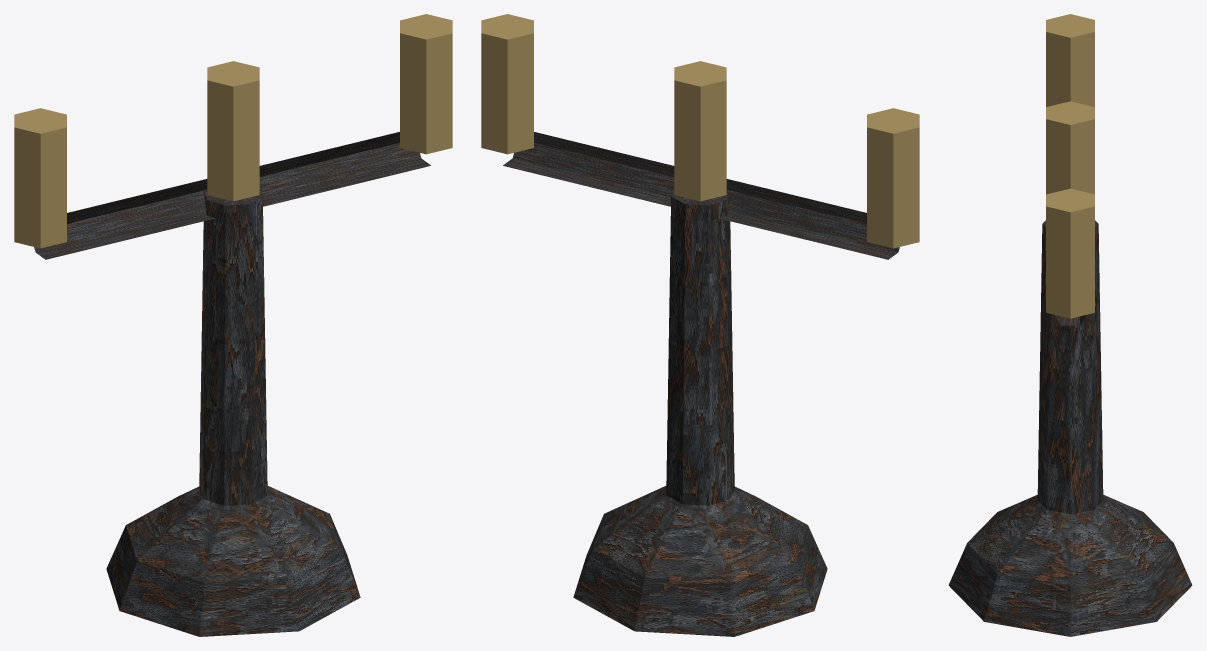
File: C14_Candelabro.obj
3 renders of one model, left to right at view 1: azimuth 30°, elevation 25°; view 2: azimuth 150°, elevation 25°; view 3: azimuth 270°, elevation 25°, orthographic. The views are drawn at different scales.
Visible parts, largest first — view 1: C14_Candelabro; view 2: C14_Candelabro; view 3: C14_Candelabro.
Boxes of the visible parts, x1=… form: C14_Candelabro: x1=14, y1=14, x2=452, y2=636; C14_Candelabro: x1=481, y1=14, x2=919, y2=636; C14_Candelabro: x1=948, y1=14, x2=1192, y2=636.
Bounding box in the file's own units: 1 × 1.11 × 0.52.
2 materials, 1 textured.
